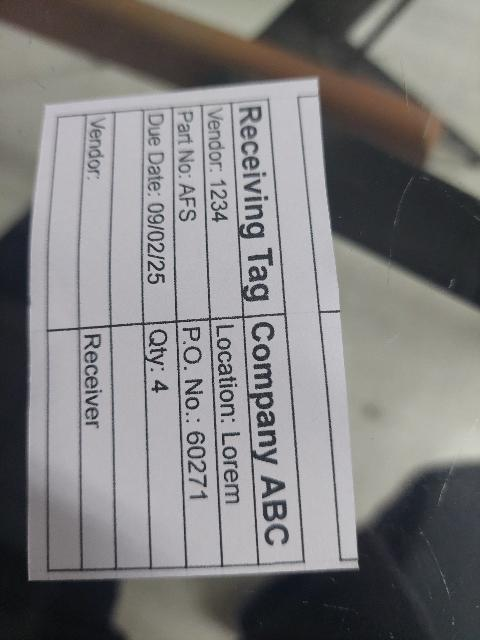PO no: (177, 320, 223, 567)
part no: (173, 106, 211, 321)
qty: (143, 321, 187, 570)
tags: (28, 78, 358, 580)
